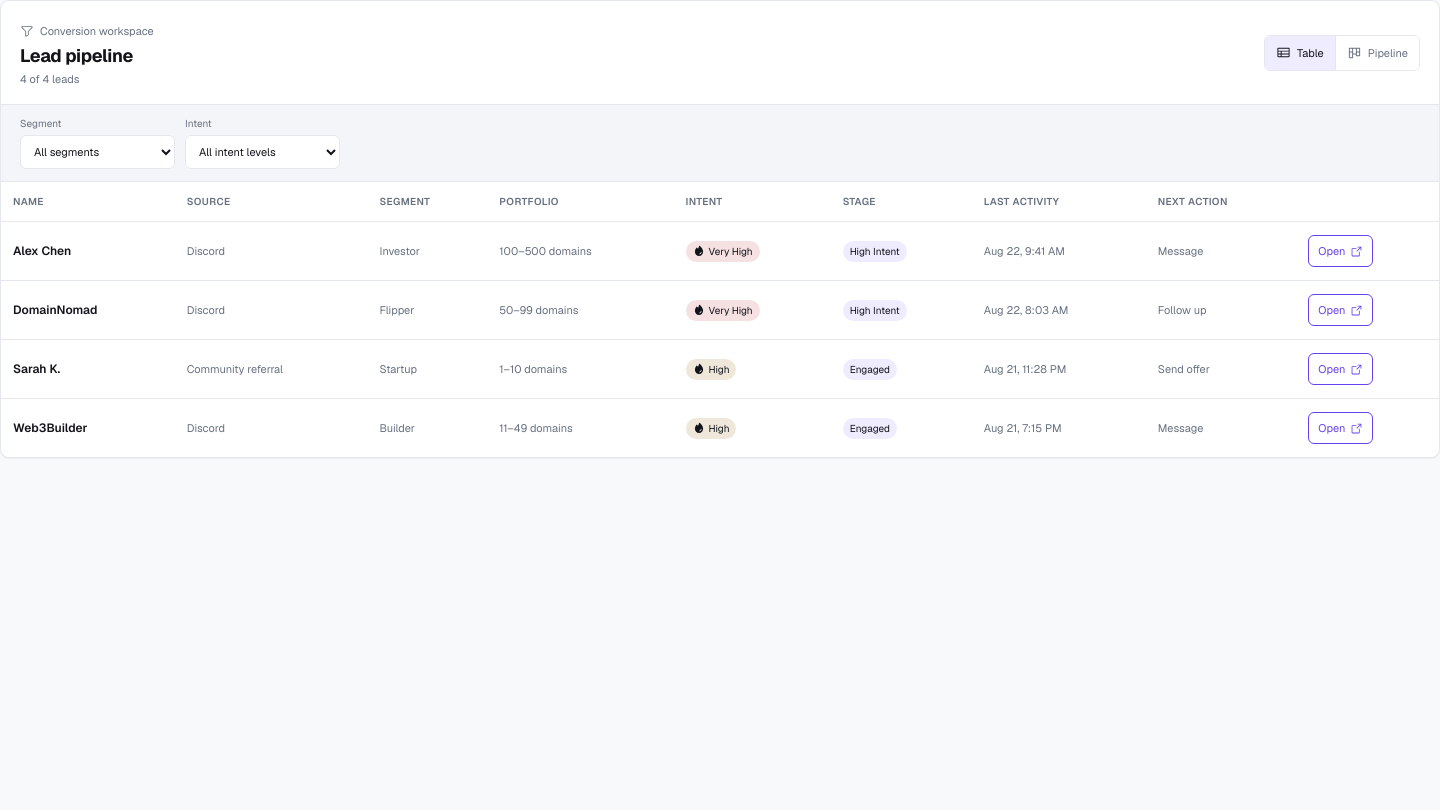
it: shows a completed action after reopening without offering duplicate completion
The image size is (1440, 810).
Click the button with aria-label "Open Alex Chen" at (1341, 251), box left=1308, top=235, right=1373, bottom=267
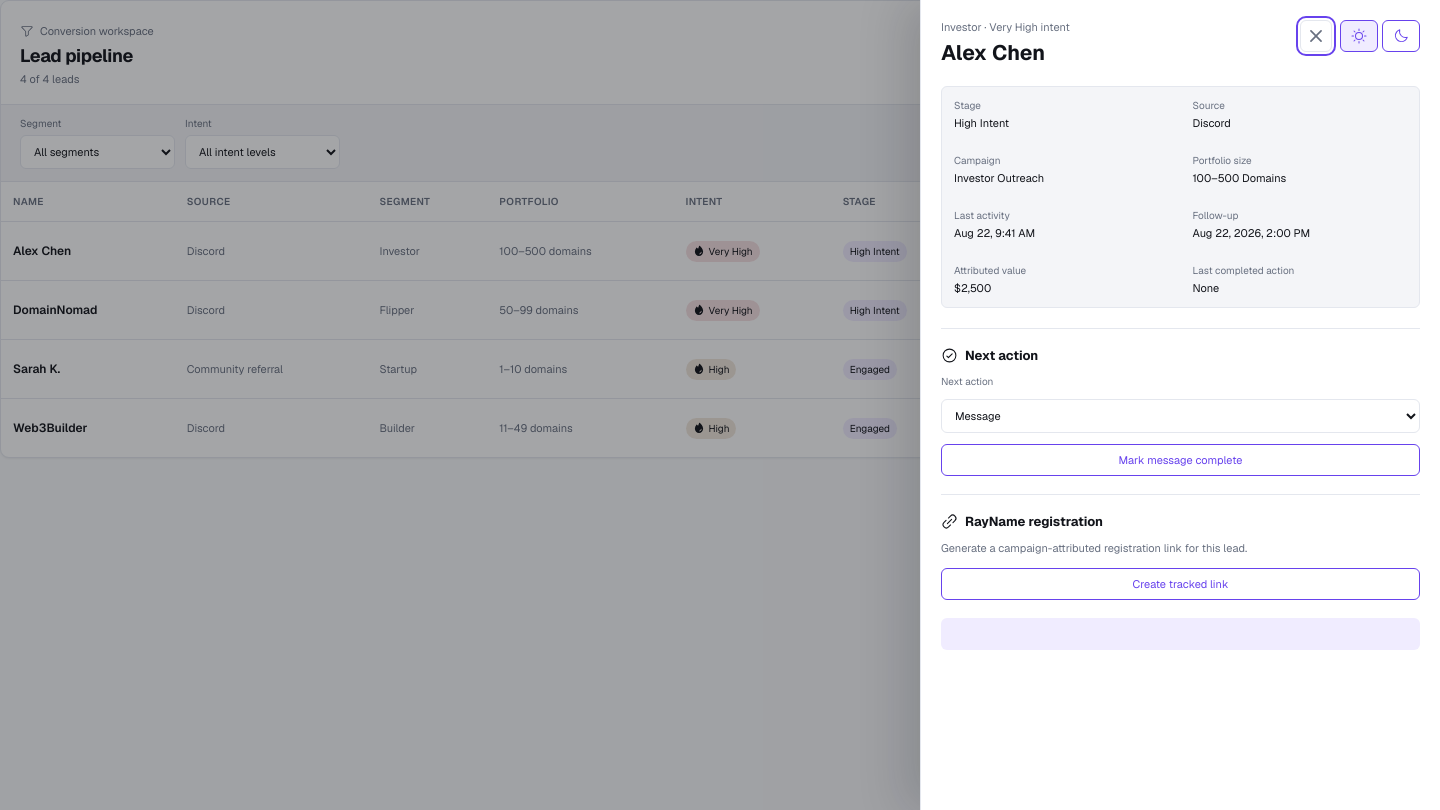
Select "Follow up" in the dropdown labelled "Next action" at (1180, 416), box left=941, top=399, right=1420, bottom=433
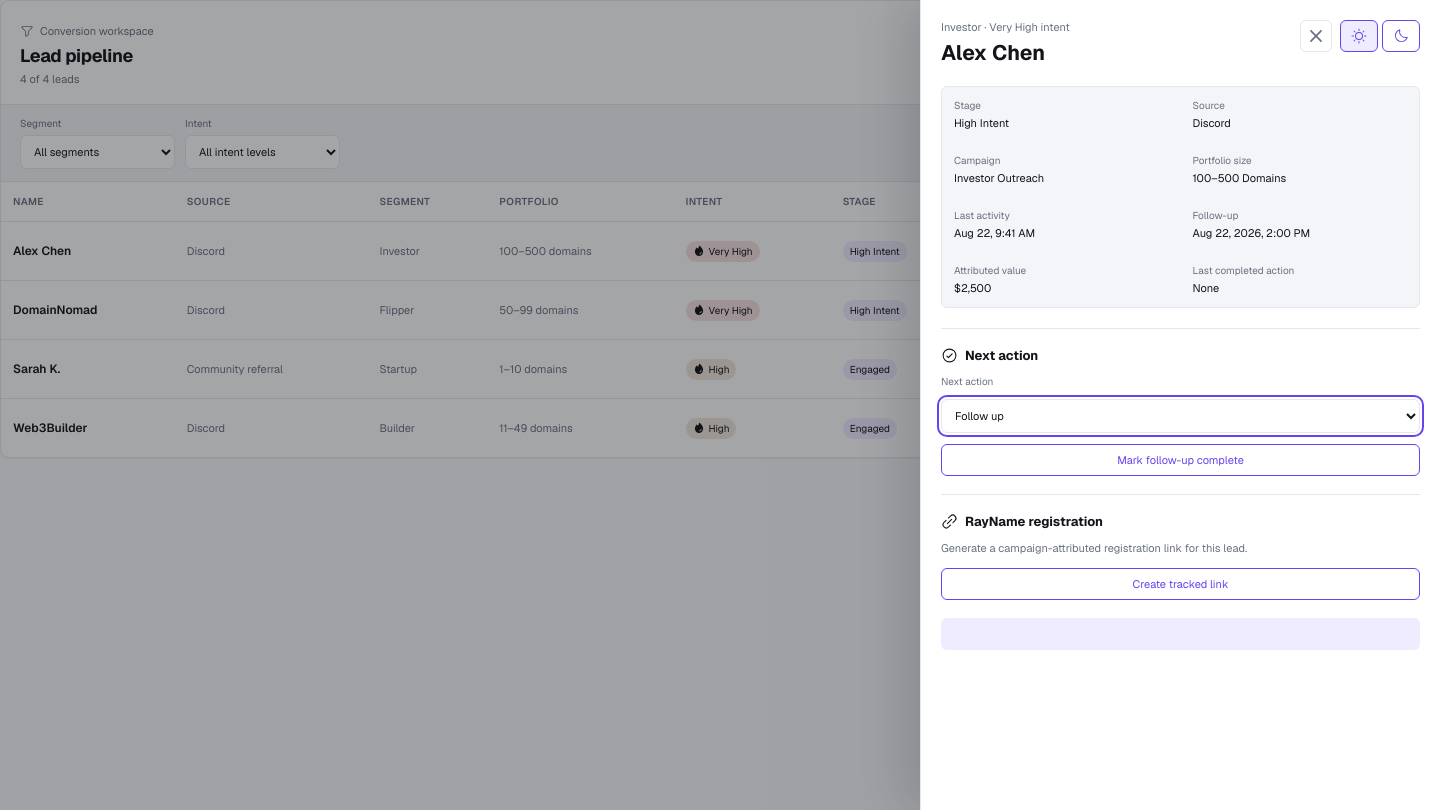
Click the button "Mark follow-up complete" at (1180, 460), box left=941, top=444, right=1420, bottom=476
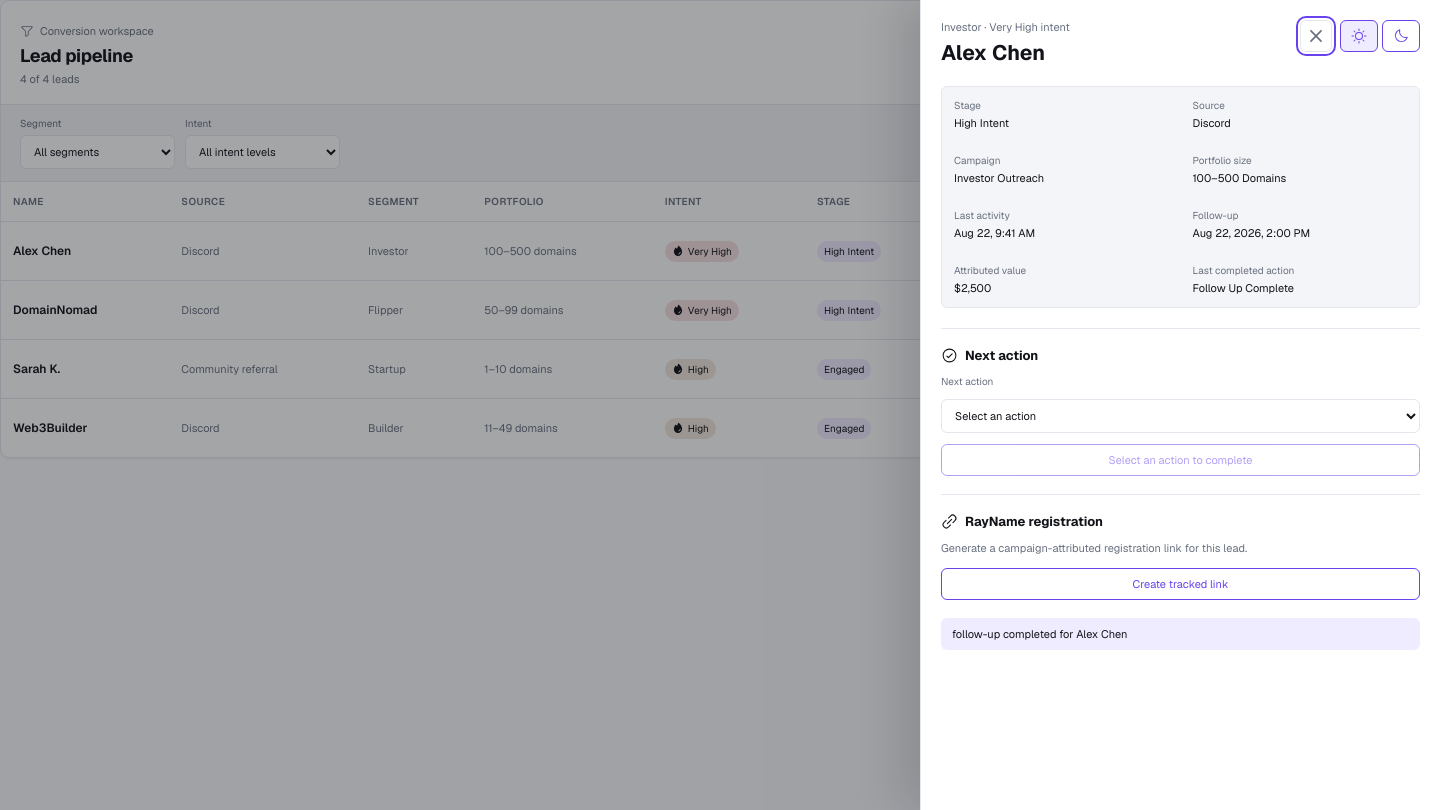
Result: the message reads "follow-up completed for Alex Chen" at left=952, top=627, right=1127, bottom=641
Click the button named "Close lead details" at (1316, 36), box left=1300, top=20, right=1332, bottom=52
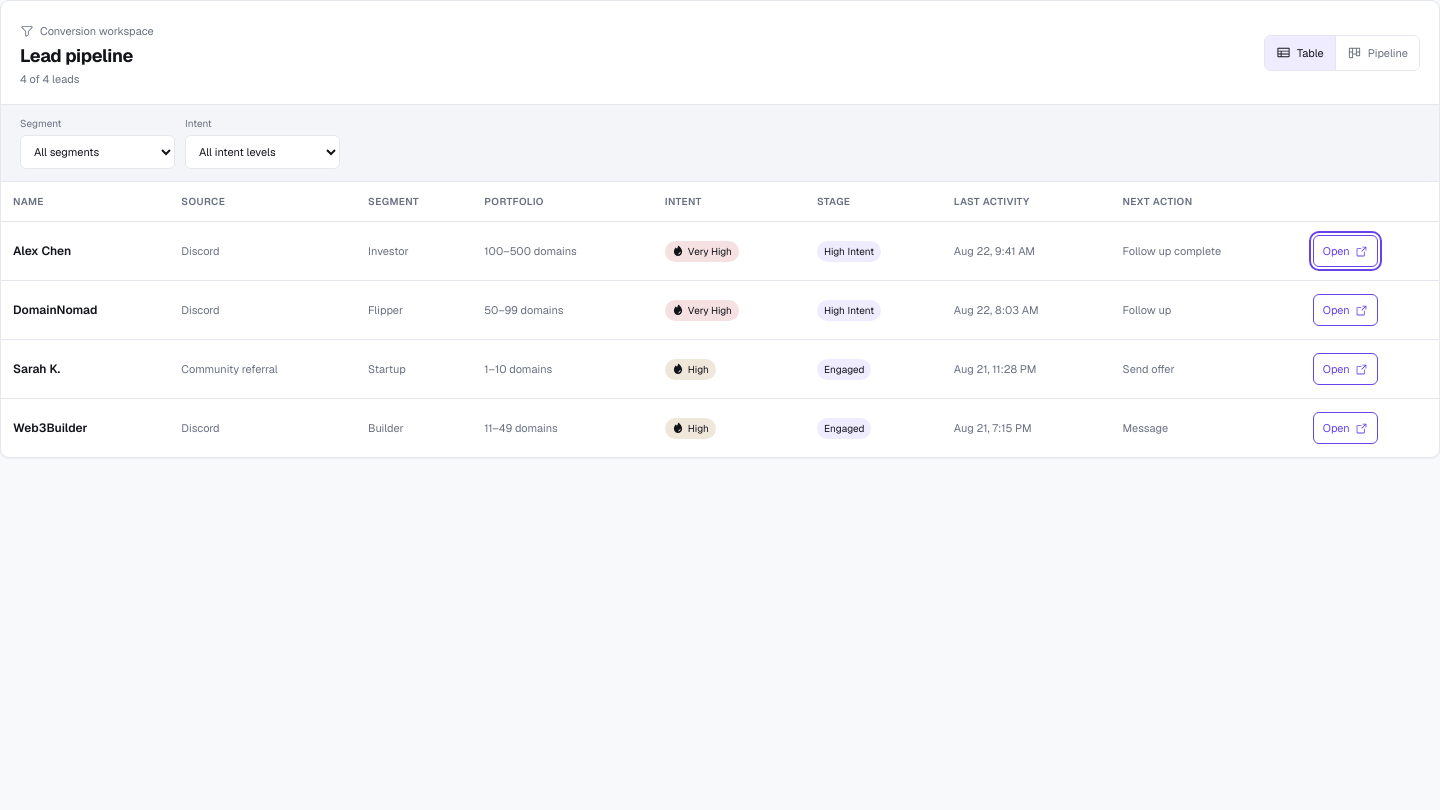
Result: the text "Follow up complete" is shown at left=1110, top=222, right=1301, bottom=280
Click the button with aria-label "Open Alex Chen" at (1345, 251), box left=1313, top=235, right=1378, bottom=267
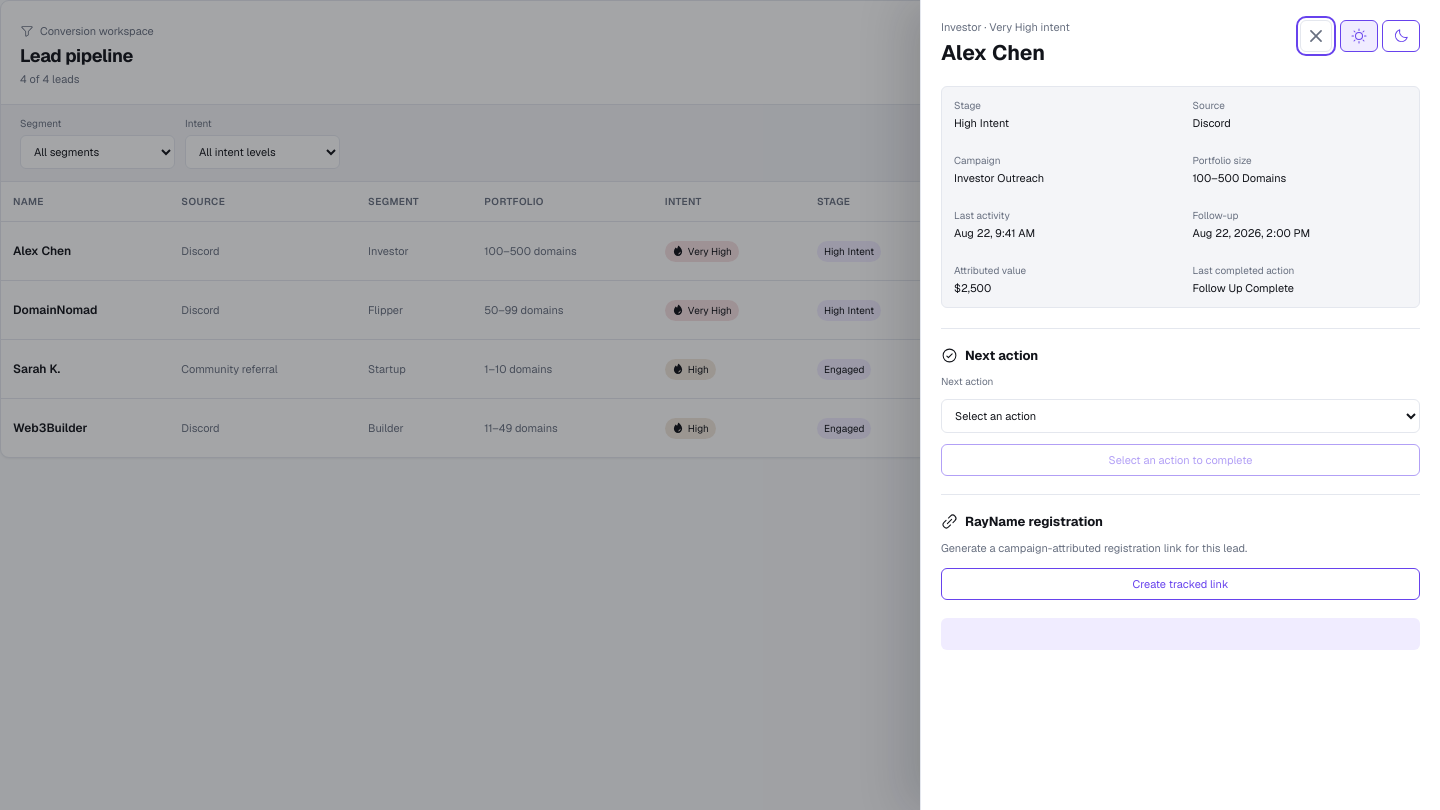
Result: the text "Follow up complete" is shown at left=1192, top=281, right=1294, bottom=295
Result: the dropdown labelled "Next action" shows "Select an action" at left=941, top=399, right=1420, bottom=433
Result: the button "Select an action to complete" is disabled at left=941, top=444, right=1420, bottom=476
